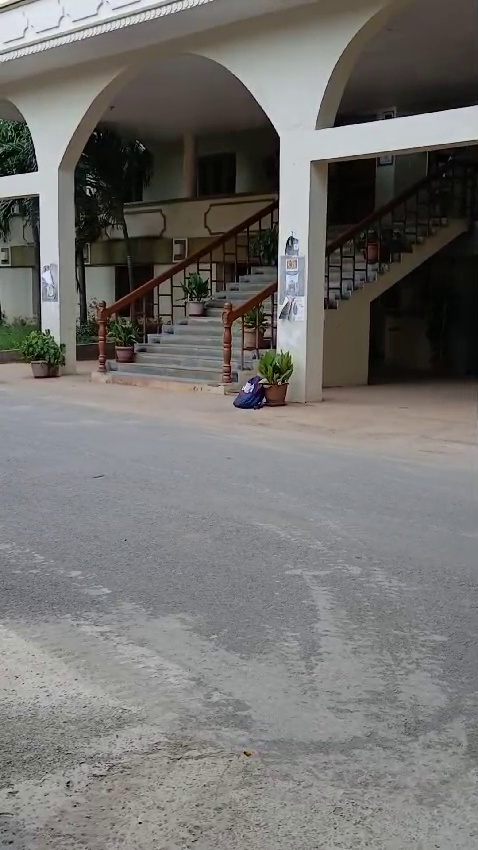bag: (227, 374, 266, 411)
